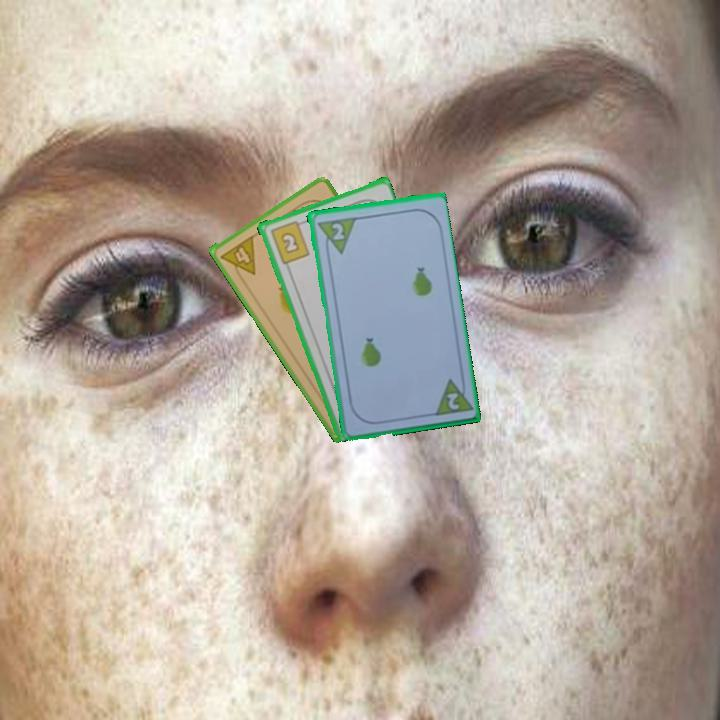2b: (267, 217, 312, 266)
2p: (429, 373, 474, 418), (328, 219, 347, 243)
4p: (217, 232, 259, 284)
